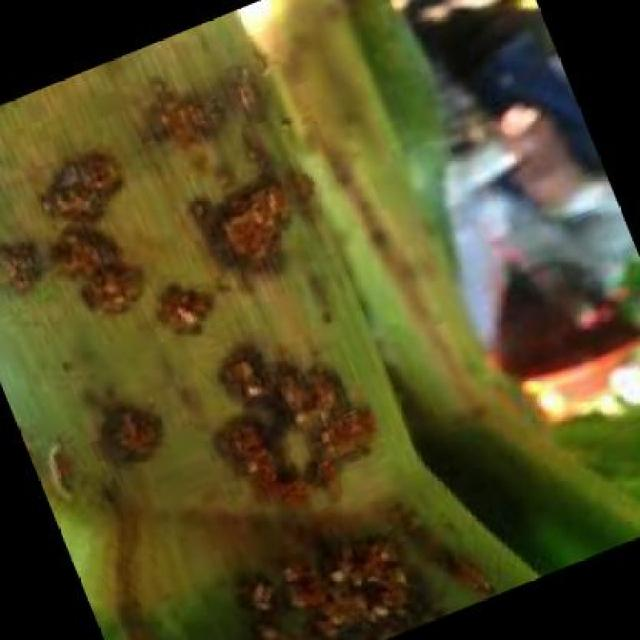Corn_Rust: (91, 69, 426, 623)
